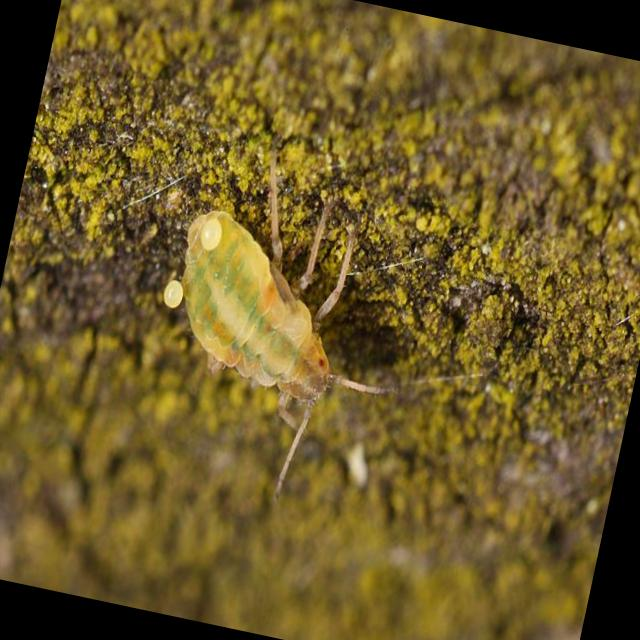Aphids: (108, 143, 448, 537)
